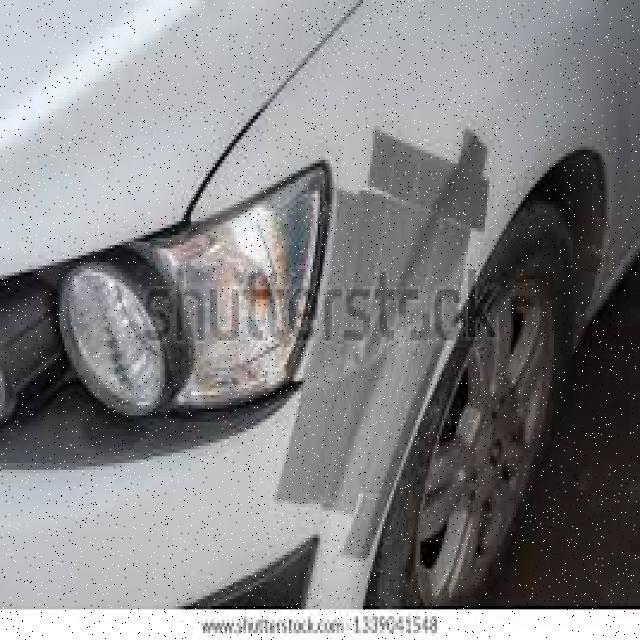fender-dent: (243, 13, 638, 378)
